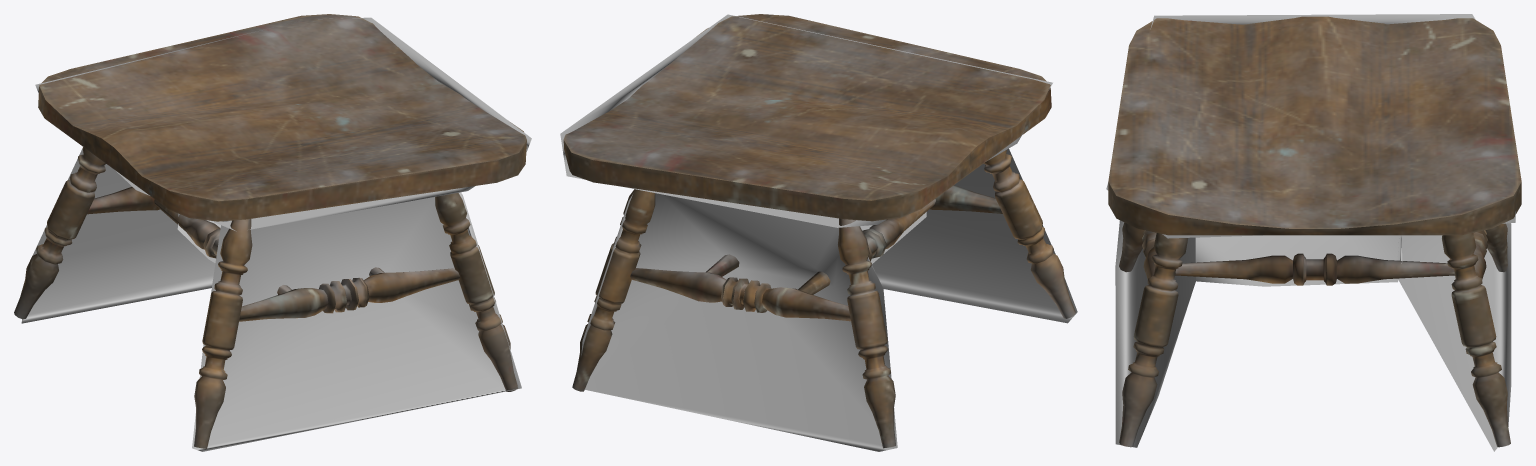
File: SM_Broken_Chair.gltf
3 renders of one model, left to right at view 1: azimuth 30°, elevation 25°; view 2: azimuth 150°, elevation 25°; view 3: azimuth 270°, elevation 25°, orthographic. The views are drawn at different scales.
Visible parts, largest first — view 1: SM_Broken_Chair_LOD0, SM_Broken_Chair_ConvexHulls; view 2: SM_Broken_Chair_LOD0, SM_Broken_Chair_ConvexHulls; view 3: SM_Broken_Chair_LOD0, SM_Broken_Chair_ConvexHulls.
Part boxes in pixels (left/top/right/bottom): SM_Broken_Chair_LOD0: left=14, top=14, right=526, bottom=448; SM_Broken_Chair_ConvexHulls: left=21, top=17, right=531, bottom=451; SM_Broken_Chair_LOD0: left=563, top=14, right=1075, bottom=448; SM_Broken_Chair_ConvexHulls: left=560, top=14, right=1077, bottom=451; SM_Broken_Chair_LOD0: left=1108, top=16, right=1521, bottom=447; SM_Broken_Chair_ConvexHulls: left=1106, top=14, right=1515, bottom=451.
Size of what is drawn, in the model's own units: 0.584 by 0.4164 by 0.5627.
